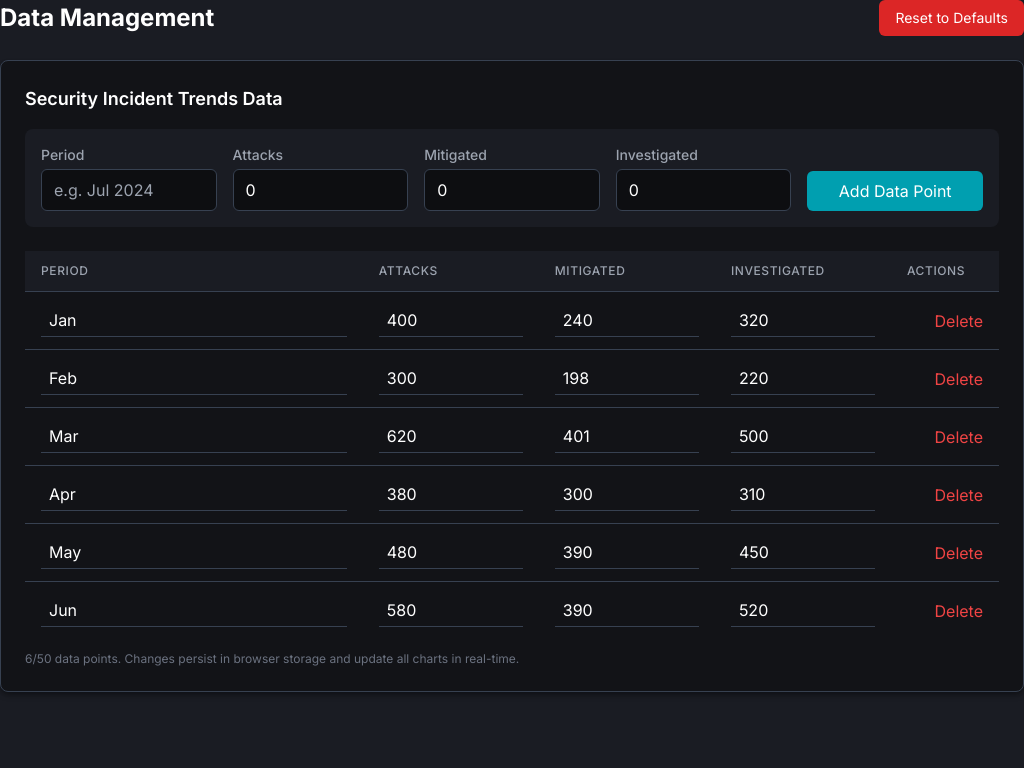
Test case: DataManagement › shows validation error when adding a point without a name
This screenshot has width=1024, height=768.
What coordinates should you click on to do the following:
click the button "Add Data Point"
I would click on:
 (895, 191)
Its box is [807,171,983,211].
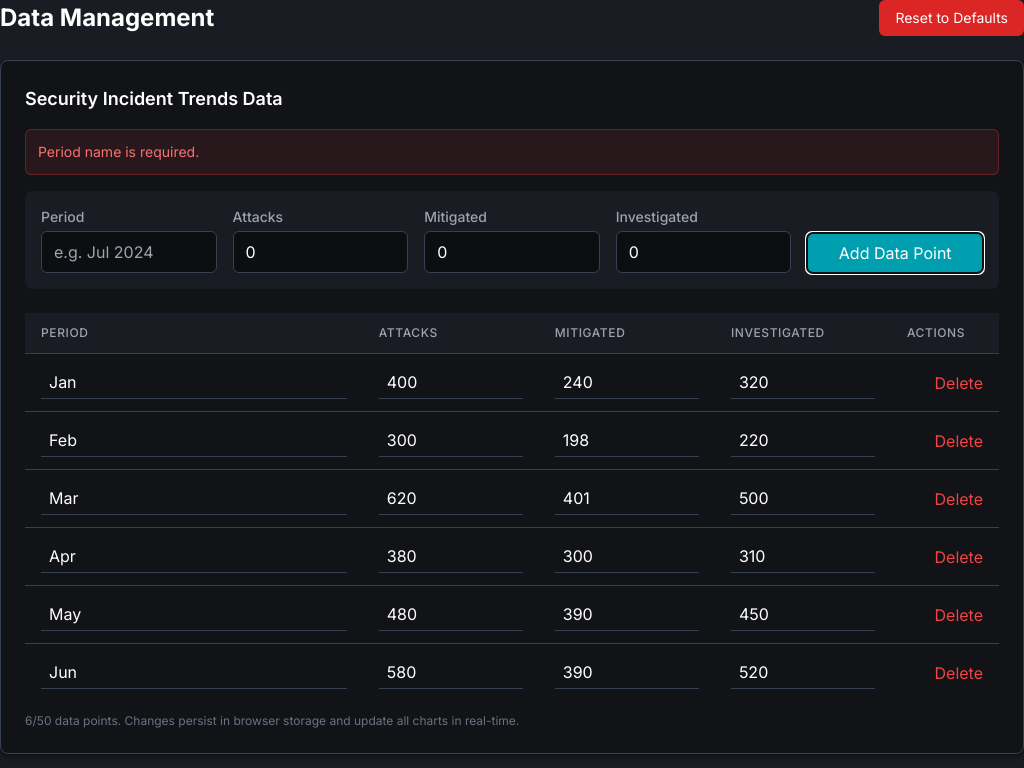
Expected: the message "Period name is required." is shown, [25,129,999,175]
Expected: the message shows "Period name is required", [38,143,199,160]
